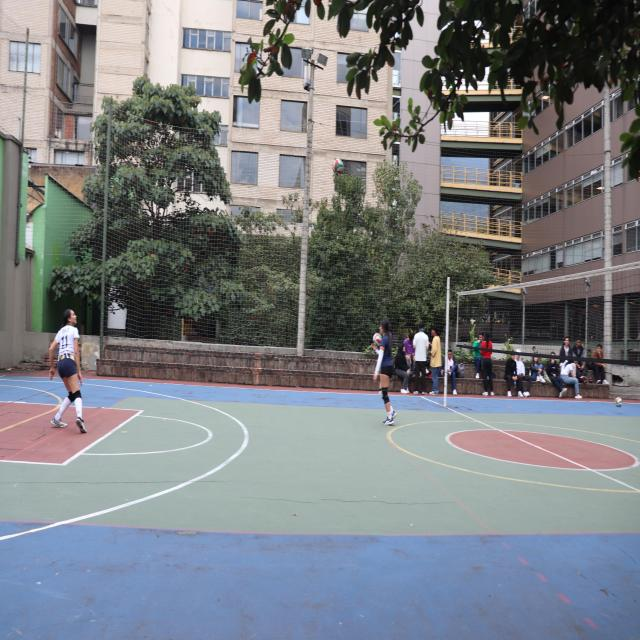volleyball: (372, 333, 382, 347), (615, 397, 622, 407)
